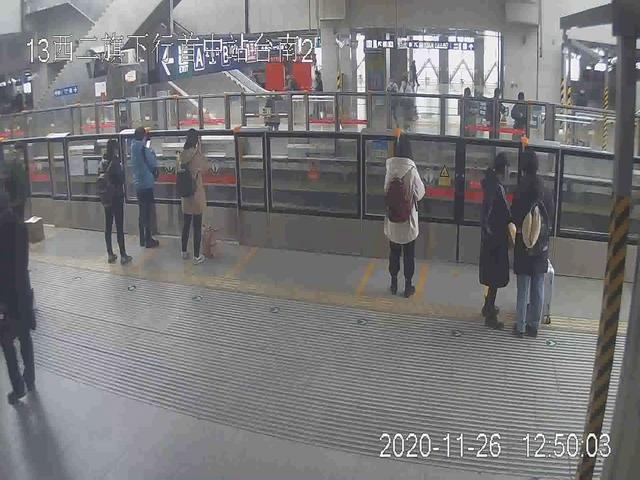person: (1, 177, 41, 406), (513, 149, 560, 341), (380, 130, 426, 300), (478, 143, 515, 333), (95, 132, 134, 267), (177, 125, 211, 262), (128, 122, 161, 250)
